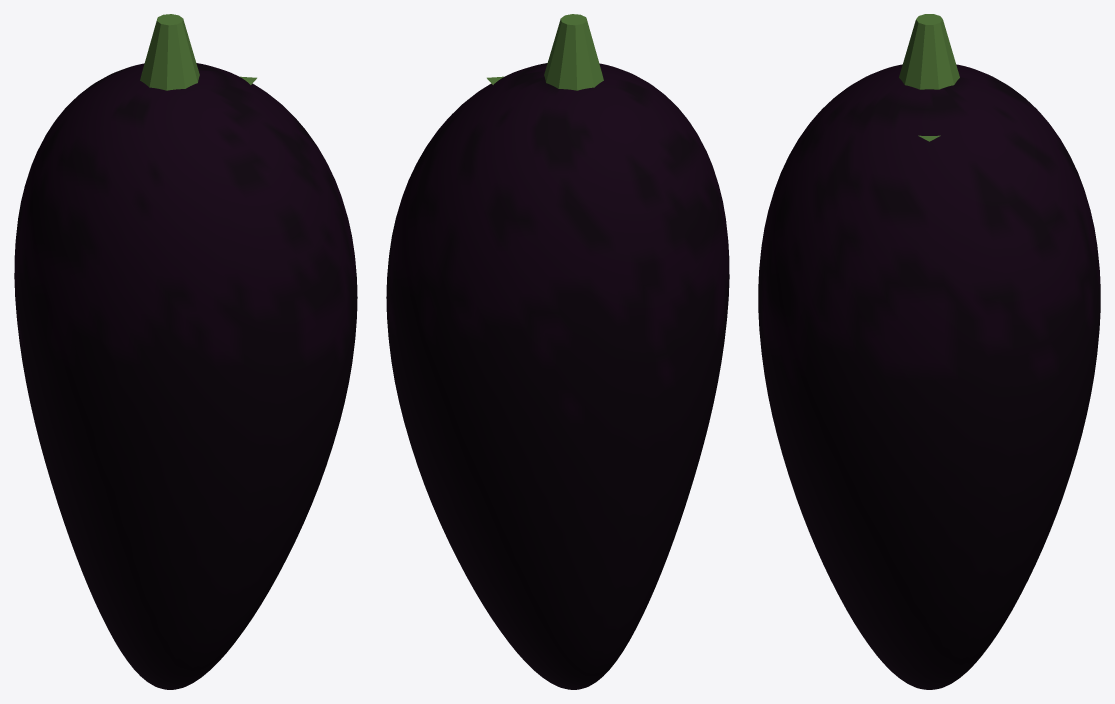
File: bringelle.glb
3 renders of one model, left to right at view 1: azimuth 30°, elevation 25°; view 2: azimuth 150°, elevation 25°; view 3: azimuth 270°, elevation 25°, orthographic.
Parts seen in each view (by area): view 1: entier_peau, moitie_B_peau, entier_extra0, moitie_A_peau; view 2: entier_peau, moitie_A_peau, entier_extra0, moitie_B_peau; view 3: entier_peau, moitie_A_peau, moitie_B_peau, entier_extra0.
Boxes of the visible parts, x1,y1,x2,y2 form: entier_peau: [14, 63, 357, 689]; moitie_B_peau: [37, 72, 357, 689]; entier_extra0: [140, 14, 256, 90]; moitie_A_peau: [14, 65, 236, 670]; entier_peau: [386, 63, 729, 689]; moitie_A_peau: [386, 72, 704, 689]; entier_extra0: [487, 14, 603, 90]; moitie_B_peau: [505, 64, 729, 662]; entier_peau: [758, 64, 1100, 689]; moitie_A_peau: [929, 65, 1100, 688]; moitie_B_peau: [758, 65, 929, 688]; entier_extra0: [899, 14, 959, 141].
Size of the model in its own units: 1.02 by 2.18 by 1.01.
